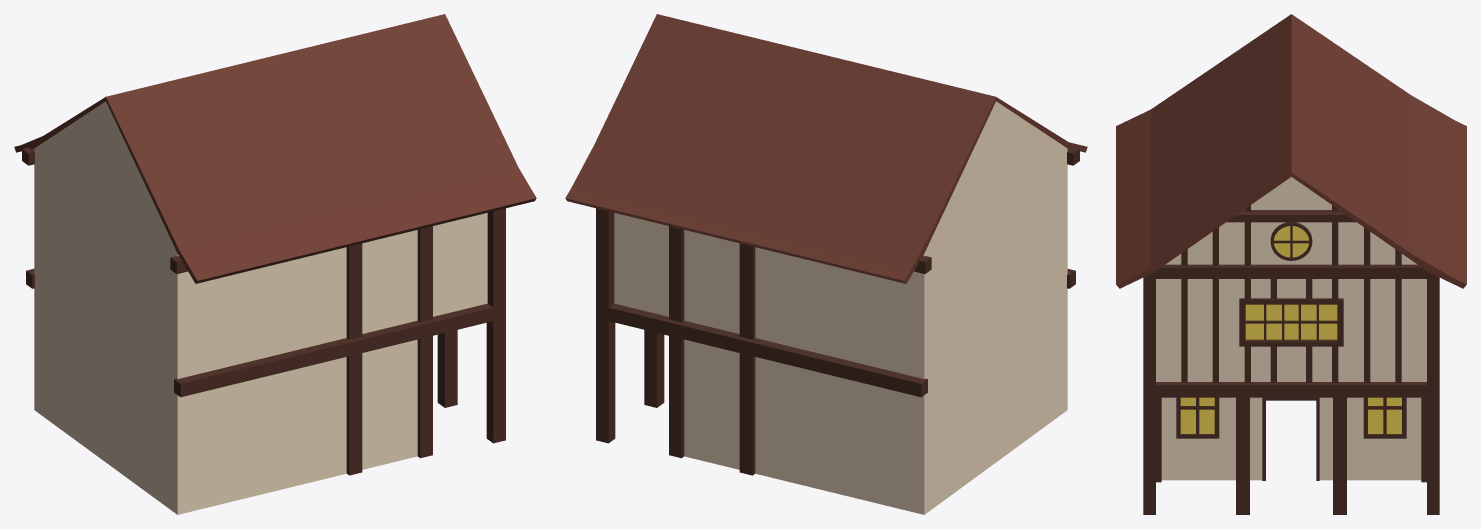
The model's file is Building_1.fbx.
3 renders of one model, left to right at view 1: azimuth 30°, elevation 25°; view 2: azimuth 150°, elevation 25°; view 3: azimuth 270°, elevation 25°, orthographic. The views are drawn at different scales.
Parts seen in each view (by area): view 1: Building_1; view 2: Building_1; view 3: Building_1.
Part boxes in pixels (x1,y1,x2,y2): Building_1: (14,14,536,514); Building_1: (565,14,1087,514); Building_1: (1116,14,1466,514).
Bounding box in the file's own units: 712 × 720 × 654.
